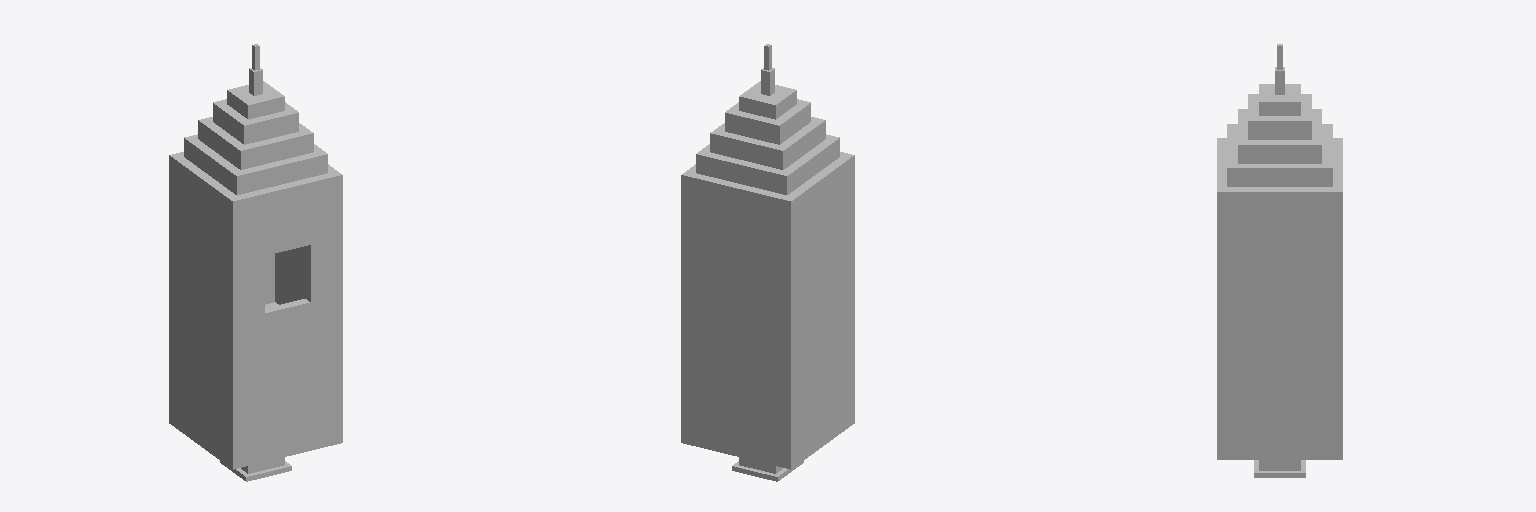
Rendered from rocket_one.obj.
The picture shows the model from 3 angles: view 1: azimuth 30°, elevation 25°; view 2: azimuth 150°, elevation 25°; view 3: azimuth 270°, elevation 25°; orthographic projection.
Visible parts, largest first — view 1: Plane; view 2: Plane; view 3: Plane.
Boxes of the visible parts, <box> form: Plane: <box>169,44,342,481</box>; Plane: <box>681,44,854,481</box>; Plane: <box>1217,44,1342,477</box>.
Size of the model in its own units: 1.5 by 5.5 by 1.5.